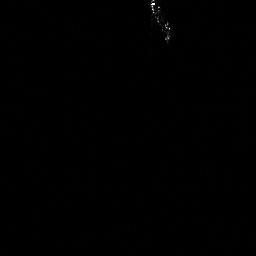ship: (150, 2, 174, 40)
